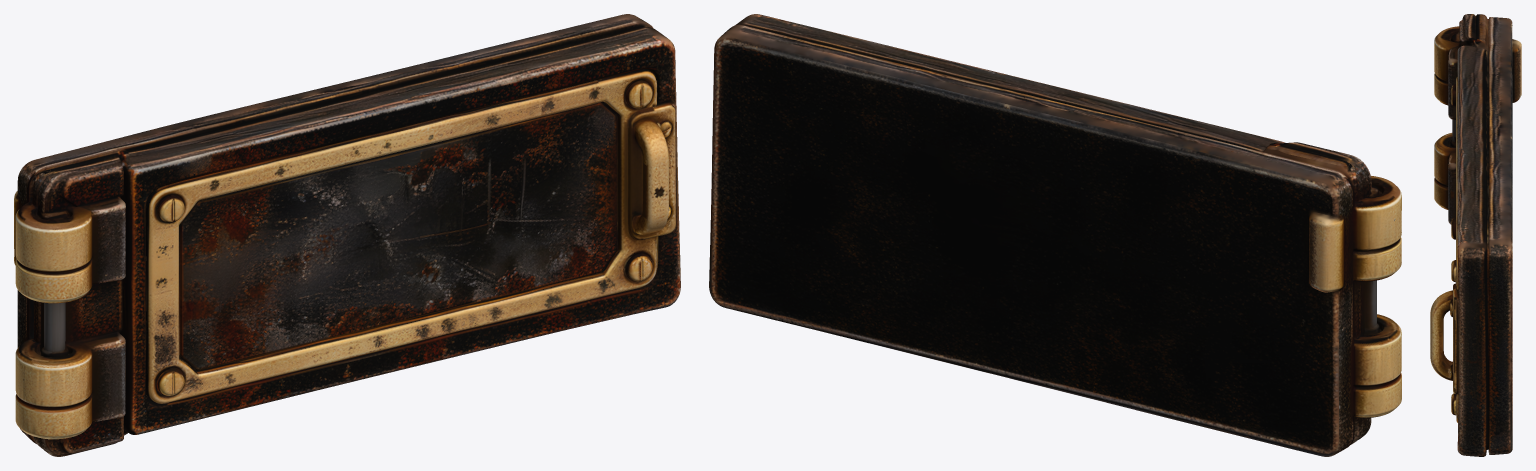
Rendered from door.glb.
3 renders of one model, left to right at view 1: azimuth 30°, elevation 25°; view 2: azimuth 150°, elevation 25°; view 3: azimuth 270°, elevation 25°, orthographic. The views are drawn at different scales.
Parts seen in each view (by area): view 1: Mesh_0; view 2: Mesh_0; view 3: Mesh_0.
Part boxes in pixels (x1,y1,x2,y2): Mesh_0: [14, 14, 680, 456]; Mesh_0: [709, 14, 1401, 456]; Mesh_0: [1430, 14, 1521, 456].
Size of the model in its own units: 1.13 by 0.4617 by 0.1766.
Materials: 1 (1 with a texture image).
